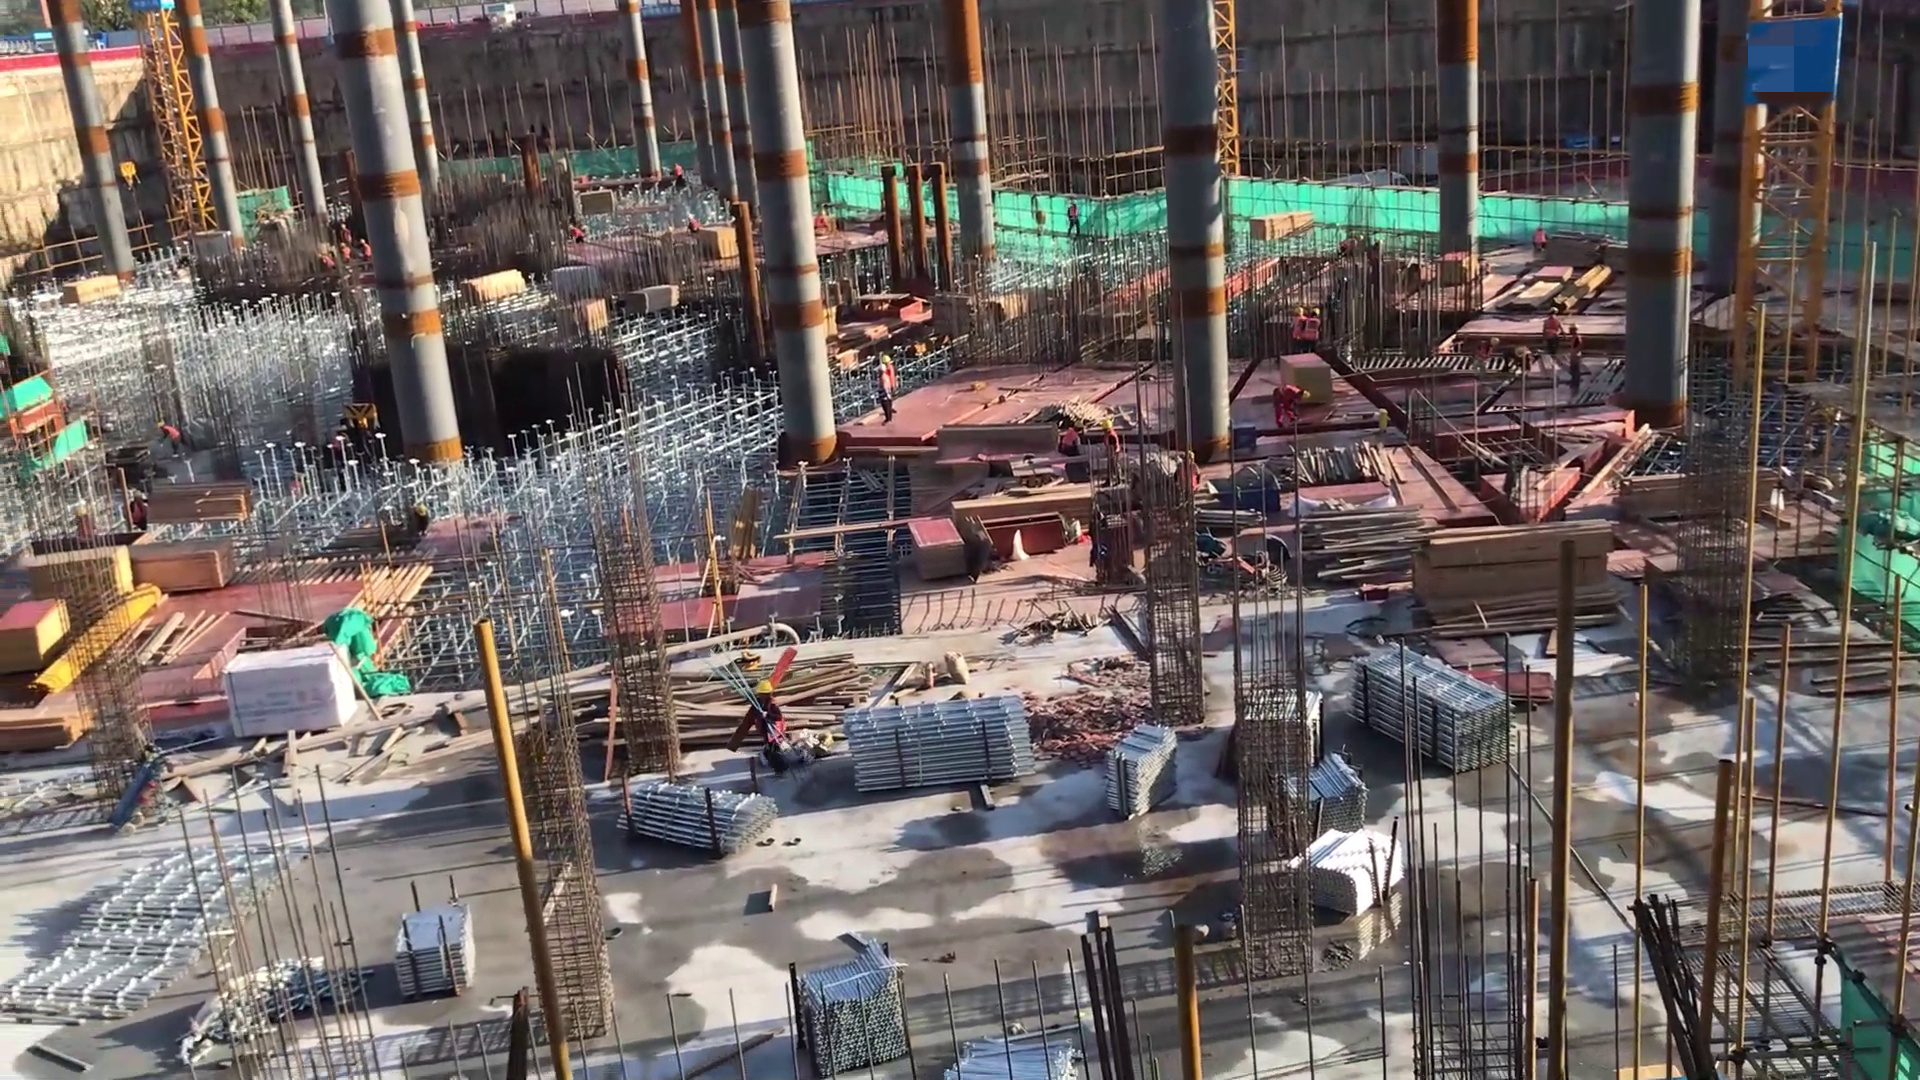board: (1, 593, 72, 687), (1453, 663, 1559, 712), (909, 514, 973, 586), (704, 224, 739, 263)
helmet: (754, 680, 775, 699), (1102, 417, 1114, 435), (1311, 305, 1325, 319), (1294, 303, 1308, 318), (156, 416, 167, 432), (1070, 421, 1086, 432), (1300, 384, 1310, 403), (881, 355, 893, 367), (1570, 323, 1581, 334), (1549, 304, 1559, 317), (132, 490, 142, 500)
hook: (1211, 474, 1281, 524), (343, 398, 380, 434), (111, 162, 143, 195)
person: (741, 674, 791, 778), (1268, 373, 1308, 432), (147, 414, 191, 459), (1565, 313, 1586, 408), (1101, 409, 1121, 498), (865, 365, 896, 422), (119, 488, 151, 539), (1545, 301, 1566, 370), (1055, 420, 1085, 464), (881, 344, 897, 415), (1304, 306, 1323, 361), (1288, 298, 1305, 356), (1065, 196, 1088, 240), (810, 205, 831, 239), (564, 223, 590, 251), (682, 211, 703, 238), (672, 162, 690, 193), (1534, 223, 1546, 258), (357, 233, 372, 263), (339, 243, 352, 266), (338, 223, 351, 243)
scaffold: (844, 680, 1040, 820), (1351, 648, 1516, 777), (790, 935, 916, 1063), (626, 770, 787, 862), (1088, 719, 1205, 844), (1262, 759, 1381, 851), (960, 1026, 1087, 1080)
vest: (1274, 382, 1299, 408), (1544, 316, 1562, 347), (1304, 316, 1322, 344), (129, 501, 149, 526), (1060, 429, 1080, 453), (1103, 430, 1119, 458), (161, 425, 181, 446)
wood: (1409, 510, 1615, 635), (683, 647, 872, 754), (1301, 502, 1436, 589), (1605, 462, 1779, 521), (130, 533, 238, 595), (943, 493, 1104, 532), (145, 477, 251, 529), (1244, 211, 1323, 245), (461, 266, 524, 309), (56, 270, 120, 309), (625, 285, 682, 316)
